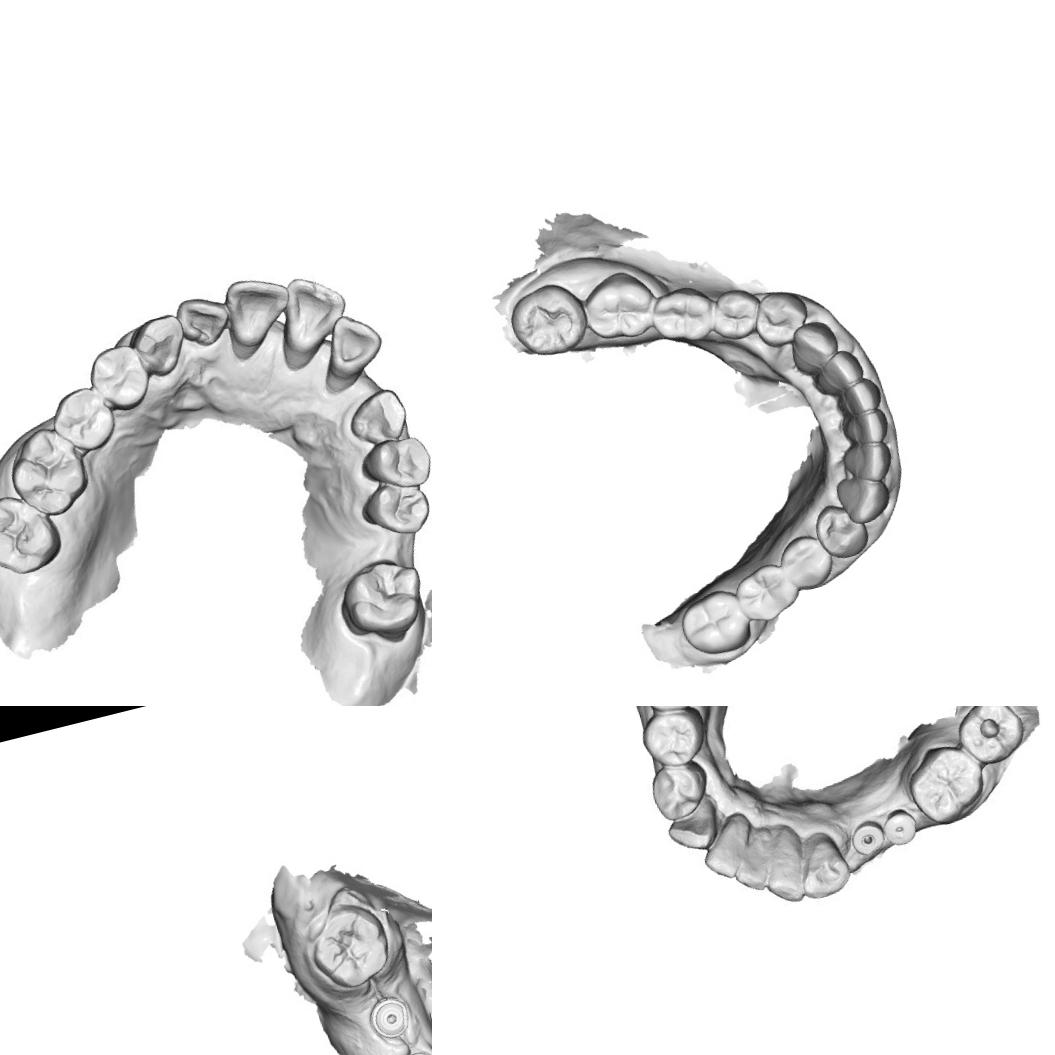canine: (124, 308, 194, 382), (341, 384, 413, 449), (793, 835, 852, 905), (782, 315, 845, 379), (832, 468, 895, 529), (660, 800, 726, 858)
implant: (363, 993, 414, 1044), (848, 814, 892, 860), (880, 805, 922, 850)
incisor: (267, 264, 357, 358), (212, 267, 300, 352), (319, 305, 391, 378), (756, 832, 816, 909), (691, 818, 756, 888), (173, 287, 238, 354), (723, 822, 780, 898), (806, 344, 870, 402), (835, 437, 896, 488), (828, 374, 885, 422), (834, 405, 892, 452)
molar: (328, 547, 432, 654), (0, 418, 99, 524), (299, 896, 398, 997), (899, 735, 993, 832), (503, 276, 592, 365), (574, 264, 662, 348), (674, 582, 755, 662), (0, 485, 66, 583), (948, 706, 1031, 770), (730, 557, 802, 628)
premolar: (81, 337, 158, 418), (354, 473, 432, 548), (45, 380, 120, 458), (353, 428, 432, 498), (642, 754, 716, 825), (647, 280, 719, 348), (636, 706, 710, 772), (746, 282, 815, 352), (808, 496, 875, 568), (774, 529, 838, 596), (705, 282, 763, 346)
